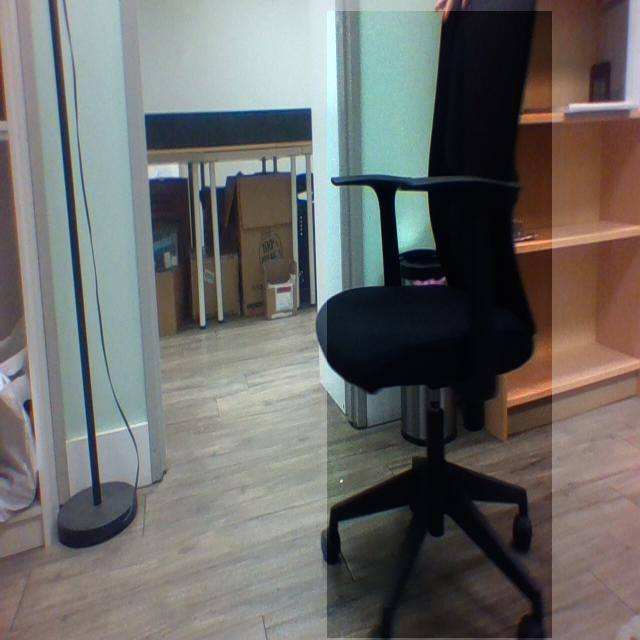black-chair: (327, 11, 553, 639)
